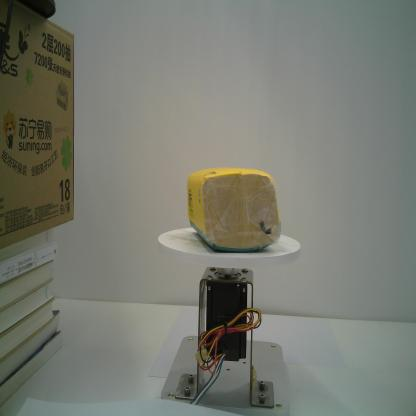Tissue: (185, 165, 283, 255)
